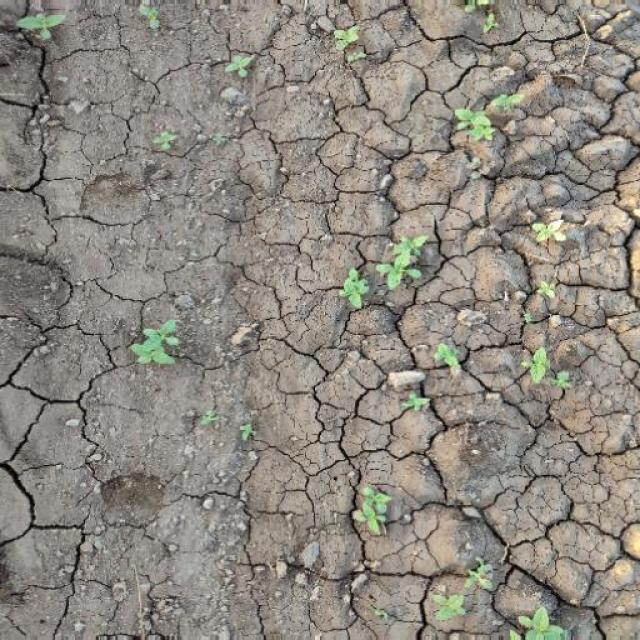crop: (426, 550, 500, 621), (444, 85, 524, 145), (526, 202, 568, 312), (521, 338, 585, 403), (374, 225, 431, 293), (126, 315, 189, 371), (352, 478, 397, 544), (8, 3, 72, 48), (216, 38, 268, 88), (332, 266, 372, 312)
